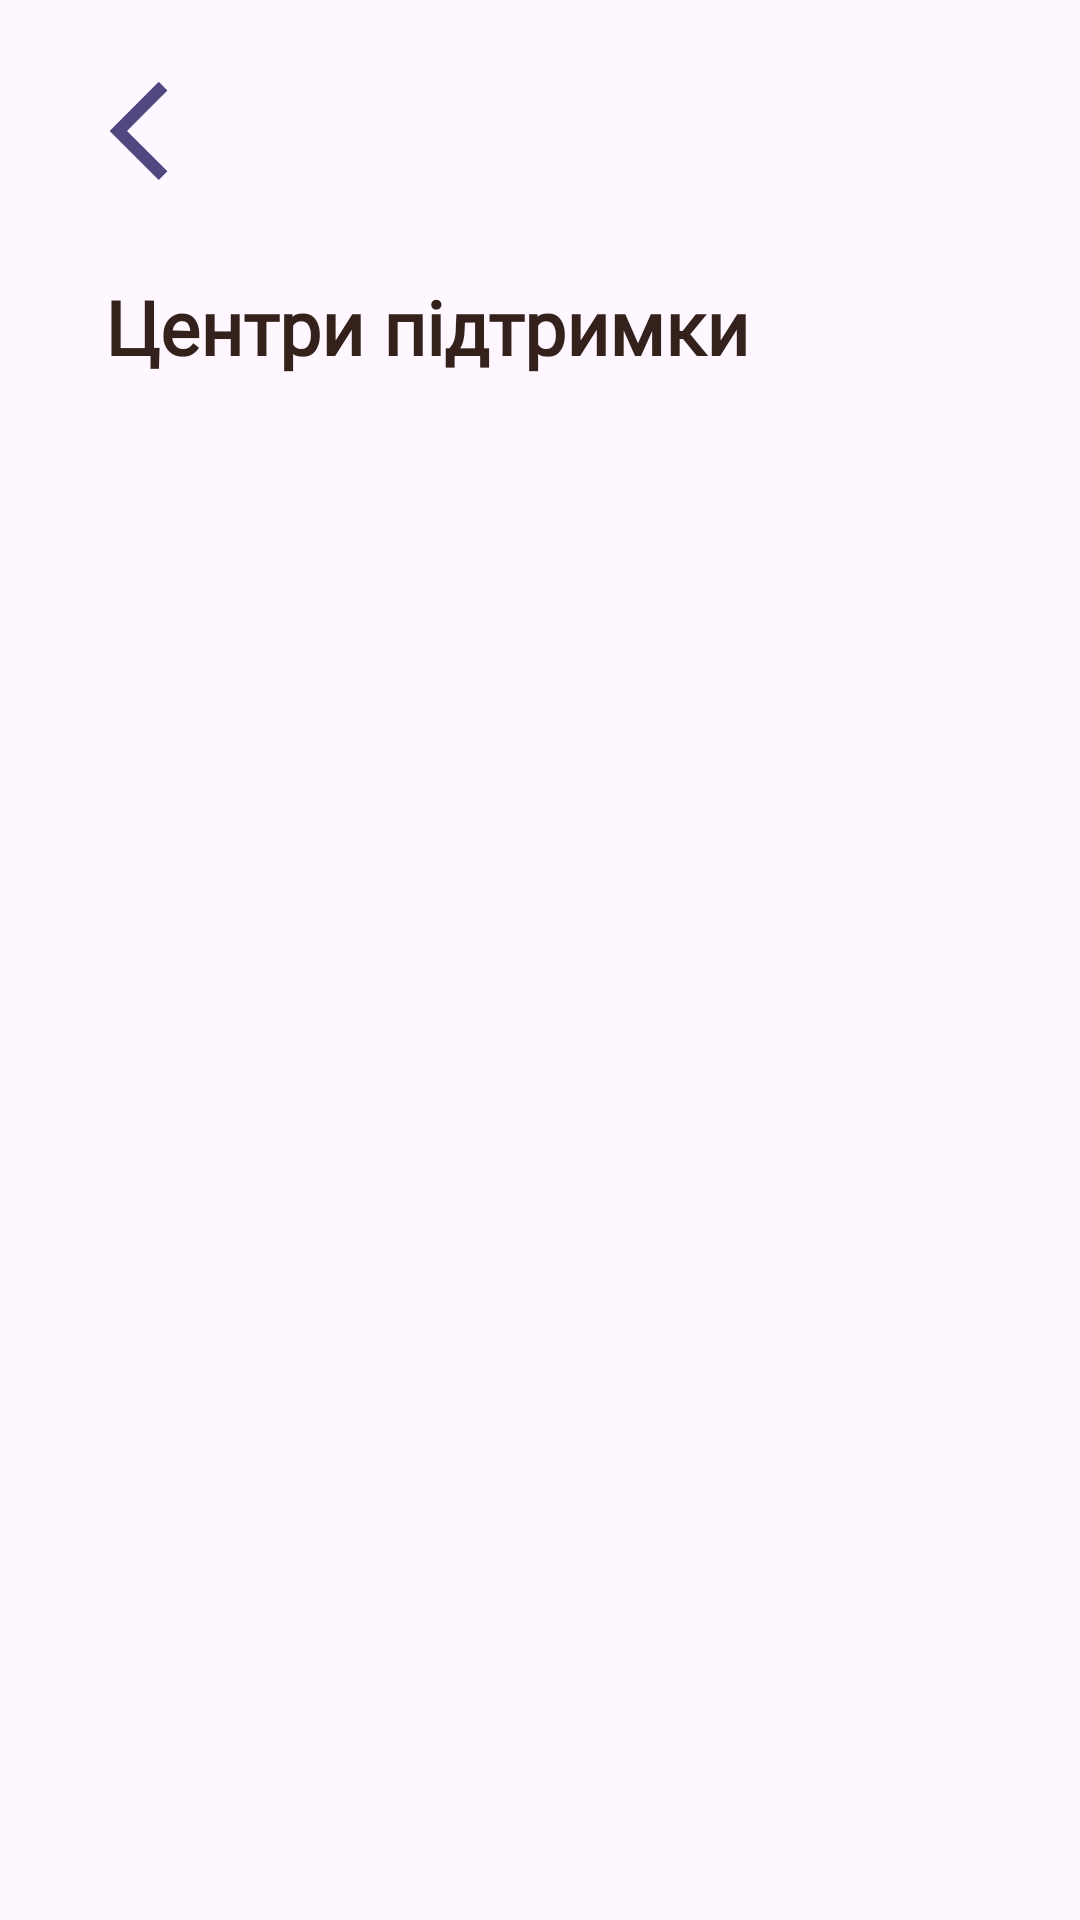

Where icons sit on this 1080 × 1920 app screen, as (x1, y1, x2, y2):
Повернутись до розділів: (110, 82, 168, 180)
